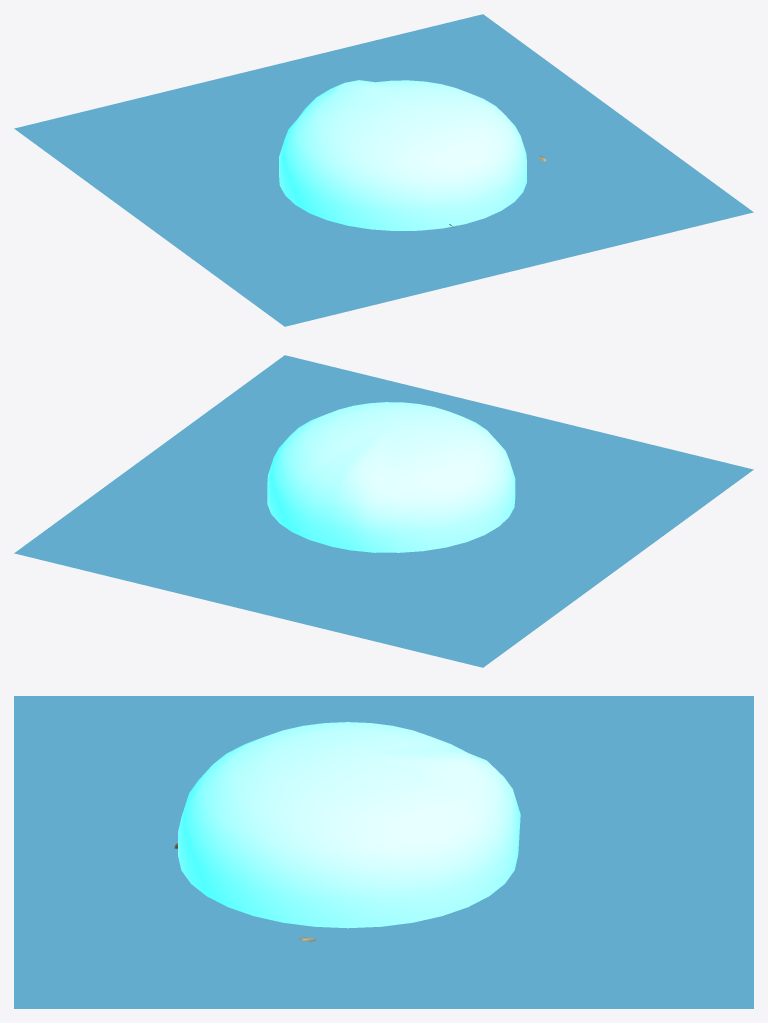
File: maptest2-compressed.glb
3 views of the same model, one above another, from view 1: azimuth 30°, elevation 25°; view 2: azimuth 150°, elevation 25°; view 3: azimuth 270°, elevation 25° (orthographic). The views are drawn at different scales.
Visible parts, largest first — view 1: Plane016, Circle003; view 2: Plane016, Circle003; view 3: Plane016, Circle003.
Part boxes in pixels (x1=…): Plane016: x1=14, y1=14, x2=753, y2=326; Circle003: x1=279, y1=80, x2=526, y2=230; Plane016: x1=14, y1=355, x2=753, y2=667; Circle003: x1=267, y1=402, x2=515, y2=552; Plane016: x1=14, y1=696, x2=753, y2=1008; Circle003: x1=178, y1=722, x2=520, y2=928.
Size of what is drawn, in the model's own units: 627 by 103 by 627.
Materials: 25 (16 with a texture image).
